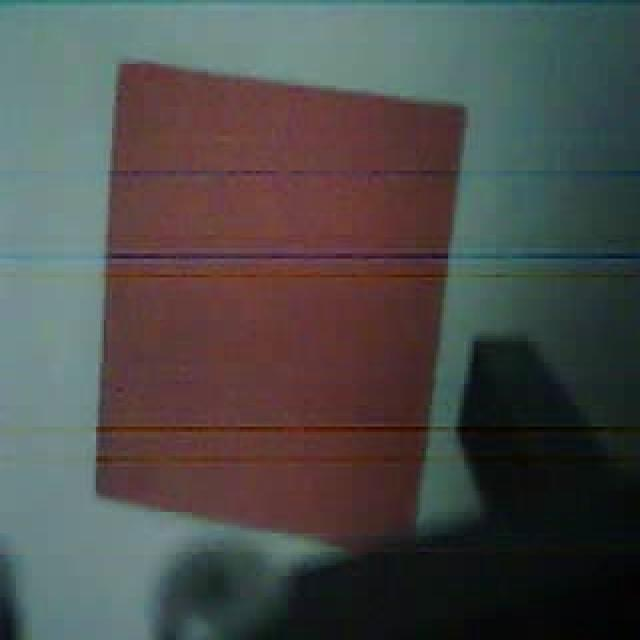red_box: (110, 59, 438, 561)
